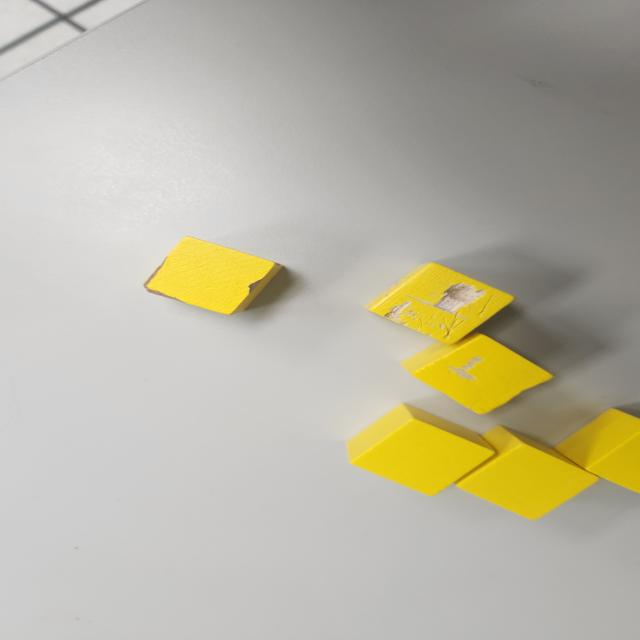broken: (361, 261, 518, 346), (398, 331, 555, 416), (142, 236, 284, 316)
yellow: (345, 403, 498, 497), (454, 426, 602, 522), (554, 407, 640, 498), (639, 121, 640, 207)
